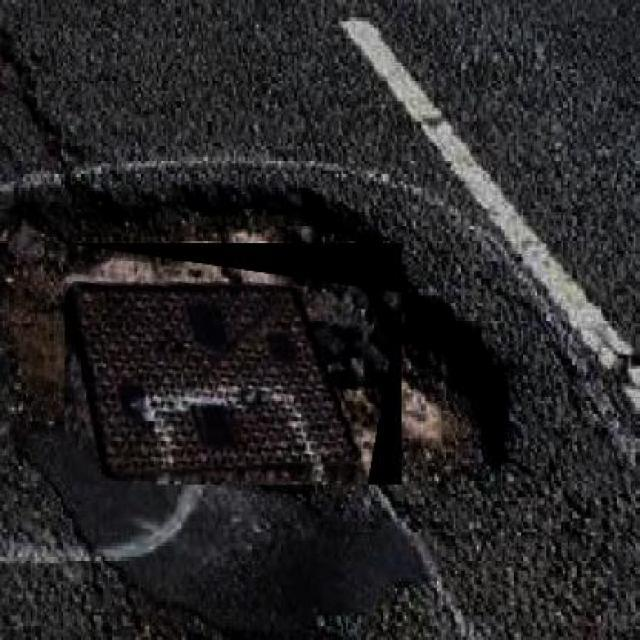Manhole: (64, 243, 402, 484)
Pothole: (25, 194, 390, 276), (398, 280, 518, 512)
